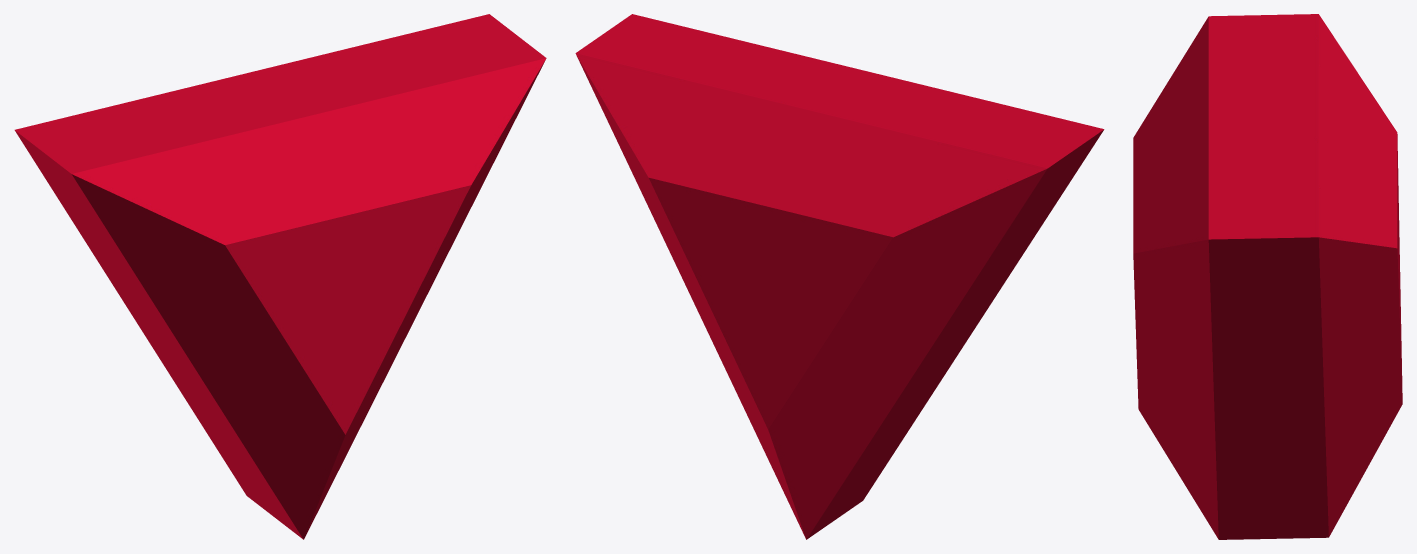
Rendered from TriGEM.gltf.
The picture shows the model from 3 angles, left to right: view 1: azimuth 30°, elevation 25°; view 2: azimuth 150°, elevation 25°; view 3: azimuth 270°, elevation 25°; orthographic projection. The views are drawn at different scales.
Visible parts, largest first — view 1: Triangle Gem; view 2: Triangle Gem; view 3: Triangle Gem.
Boxes of the visible parts, bbox=[...] form: Triangle Gem: bbox=[14, 14, 546, 539]; Triangle Gem: bbox=[575, 14, 1104, 539]; Triangle Gem: bbox=[1133, 14, 1402, 539].
Bounding box in the file's own units: 90.62 × 78.39 × 46.2.
1 material, 1 textured.
